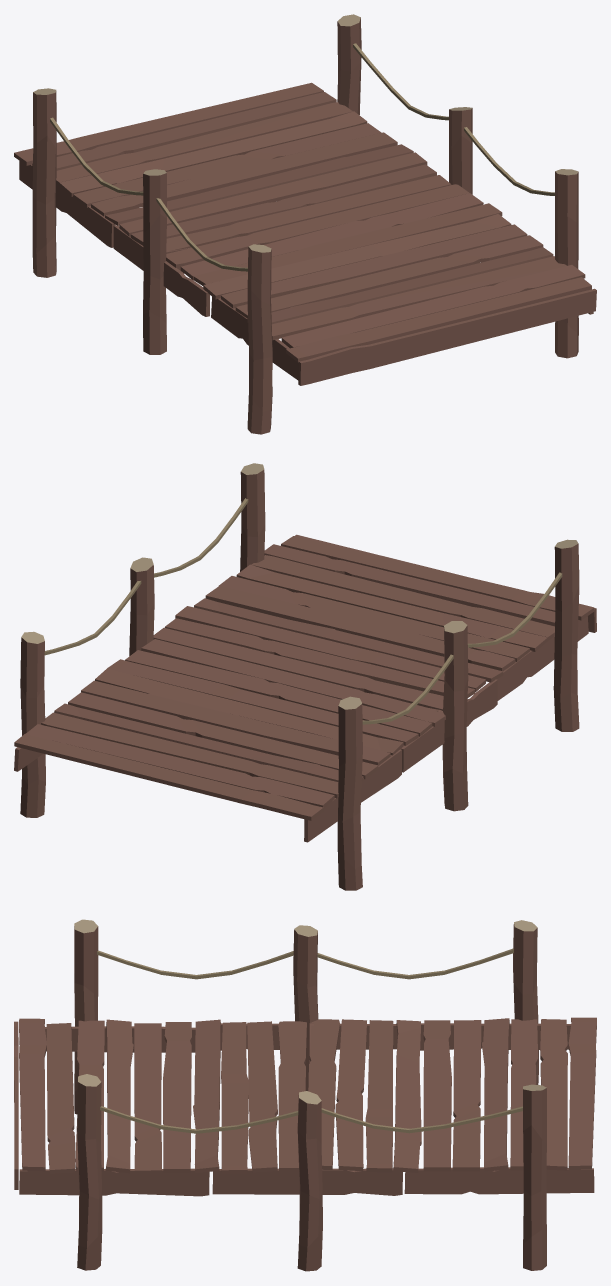
Rendered from Dock_Wide.glb.
The picture shows the model from 3 angles, top to bottom: view 1: azimuth 30°, elevation 25°; view 2: azimuth 150°, elevation 25°; view 3: azimuth 270°, elevation 25°; orthographic projection. The views are drawn at different scales.
Parts seen in each view (by area): view 1: Dock_Wide; view 2: Dock_Wide; view 3: Dock_Wide.
Part boxes in pixels (x1,y1,x2,y2): Dock_Wide: (14,14,596,434); Dock_Wide: (14,463,596,890); Dock_Wide: (14,919,596,1271).
Bounding box in the file's own units: 14.63 × 7.68 × 21.69.
